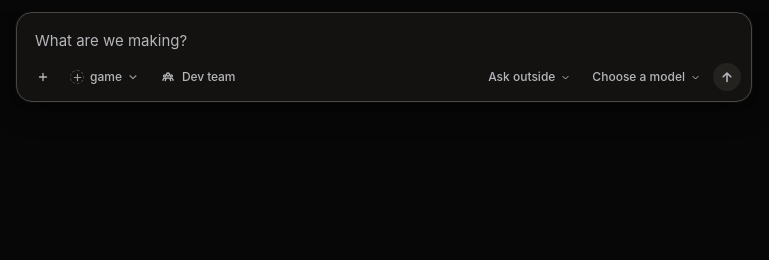
Test case: the permission pill at rest › does not let the target read overwrite a choice made while it was in flight
The image size is (769, 260).
Click the button with aria-label "Permissions": (529, 77) [479, 63, 579, 91]
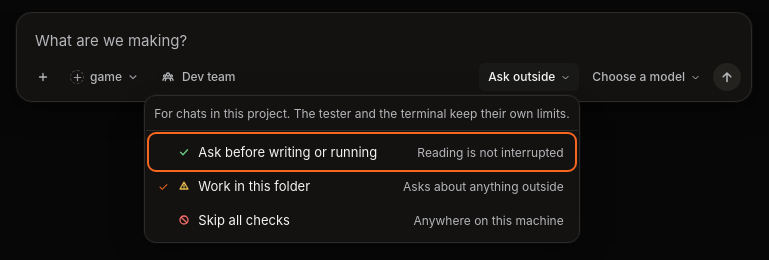
Click the menu item "Ask before writing or running Reading is not interrupted": (362, 152) [150, 135, 574, 169]
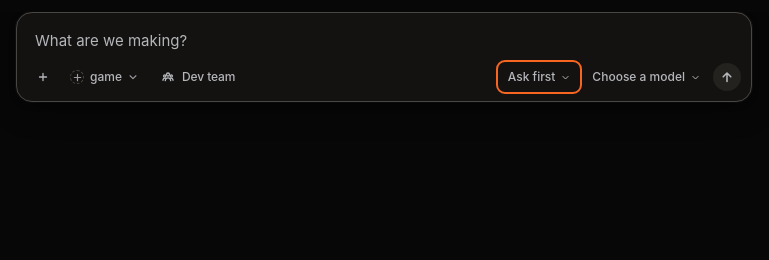
Now the button with aria-label "Permissions" reads "Ask first", box [499, 63, 579, 91]
